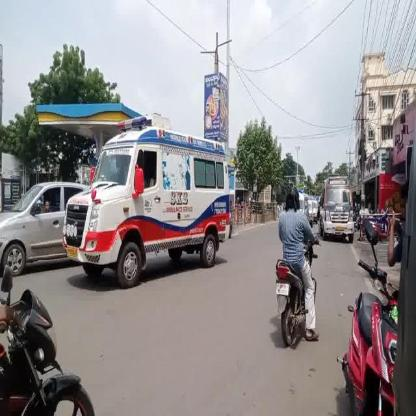priority: (54, 145, 242, 280), (317, 175, 359, 251)
